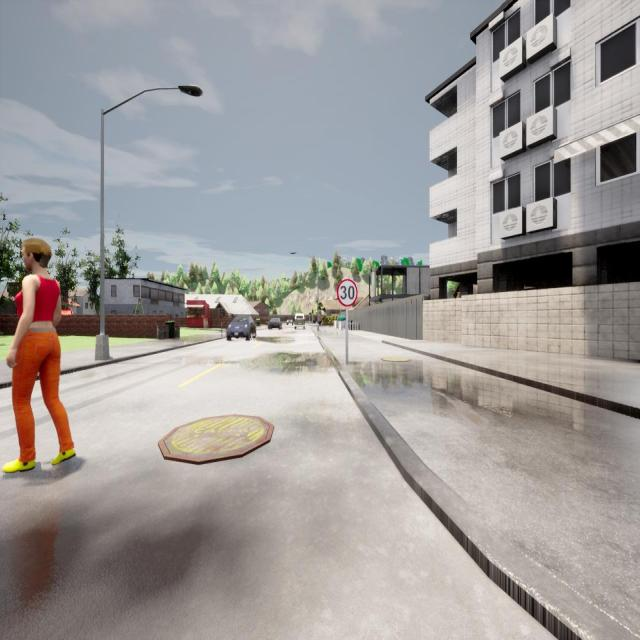Pedestrian: (2, 238, 76, 478)
Traffic_Signs: (337, 279, 357, 306)
Vehicle: (226, 315, 256, 341), (294, 314, 306, 329), (268, 318, 282, 330), (286, 318, 293, 325)
traffic_light: (312, 308, 314, 313)
